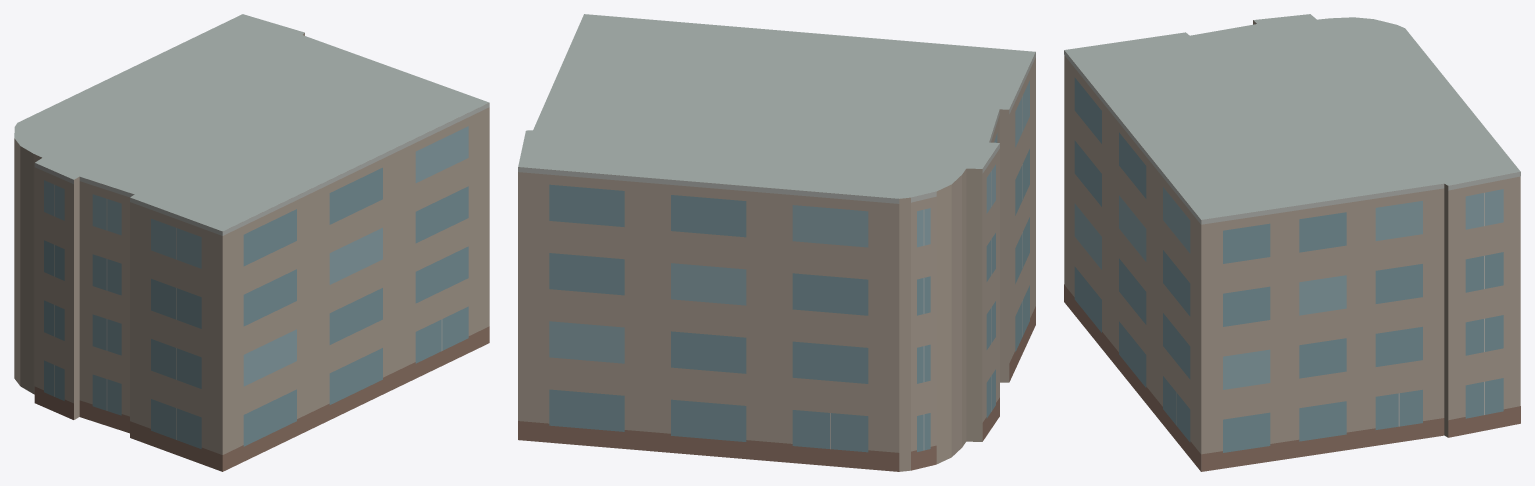
Rendered from survey-upis-32838252.glb.
3 views of the same model, side by side, from view 1: azimuth 30°, elevation 25°; view 2: azimuth 150°, elevation 25°; view 3: azimuth 270°, elevation 25° (orthographic). The views are drawn at different scales.
Visible parts, largest first — view 1: survey-upis-32838252.tmp; view 2: survey-upis-32838252.tmp; view 3: survey-upis-32838252.tmp.
Part boxes in pixels (x1,y1,x2,y2): survey-upis-32838252.tmp: [14, 14, 489, 471]; survey-upis-32838252.tmp: [518, 14, 1035, 471]; survey-upis-32838252.tmp: [1064, 14, 1520, 471].
Size of the model in its own units: 22.8 by 13 by 21.36.
